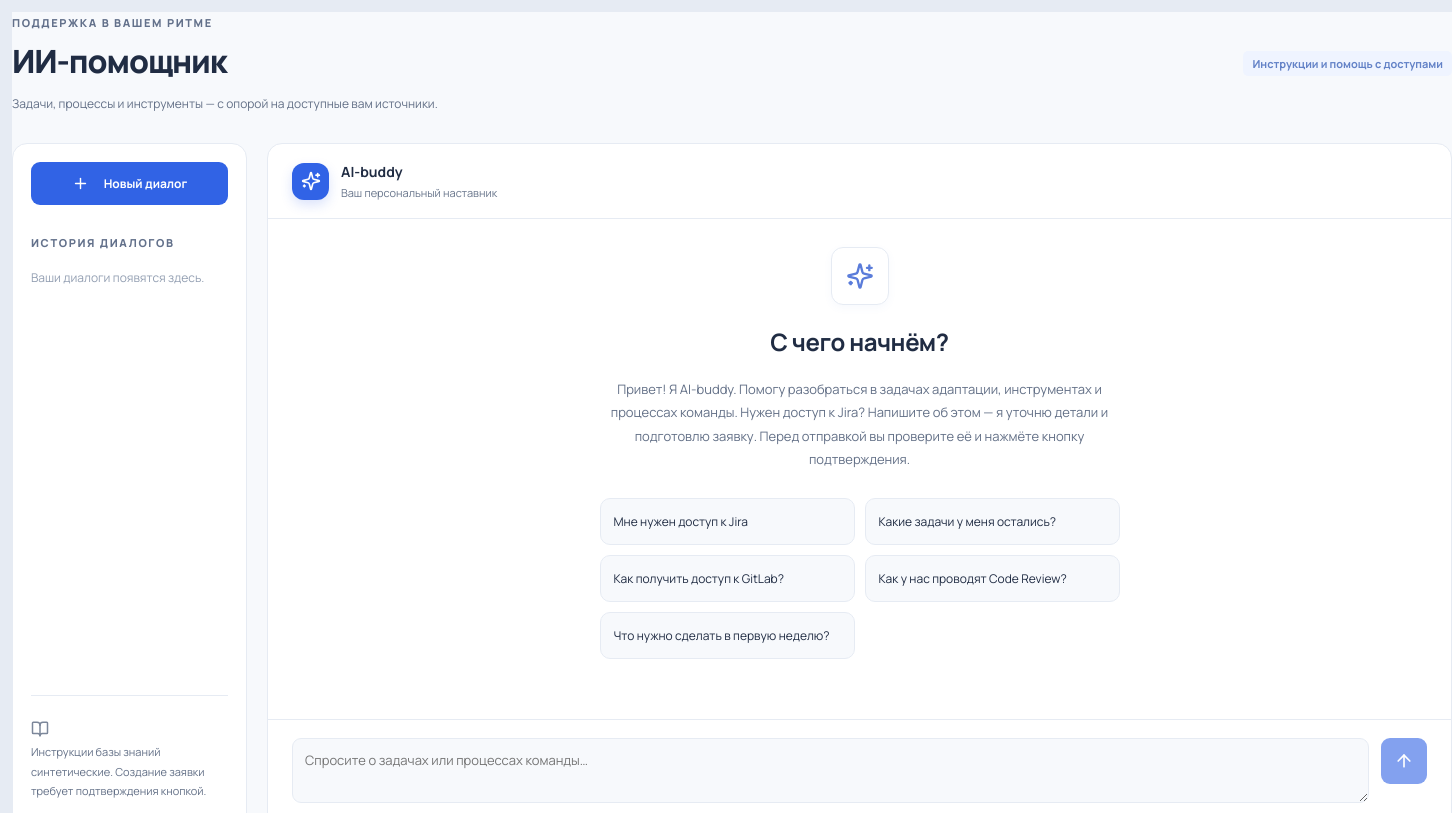
Test case: send button and empty history
The width and height of the screenshot is (1452, 813).
(page scrolled)
Expected: the text "Ваши диалоги появятся здесь." is shown, top-left (31, 267), bottom-right (228, 289)
Expected: the button named "Отправить сообщение" is disabled, top-left (1381, 738), bottom-right (1427, 784)
In the text box named "Сообщение AI-buddy": (830, 771) top-left (292, 738), bottom-right (1369, 803), type "Привет"
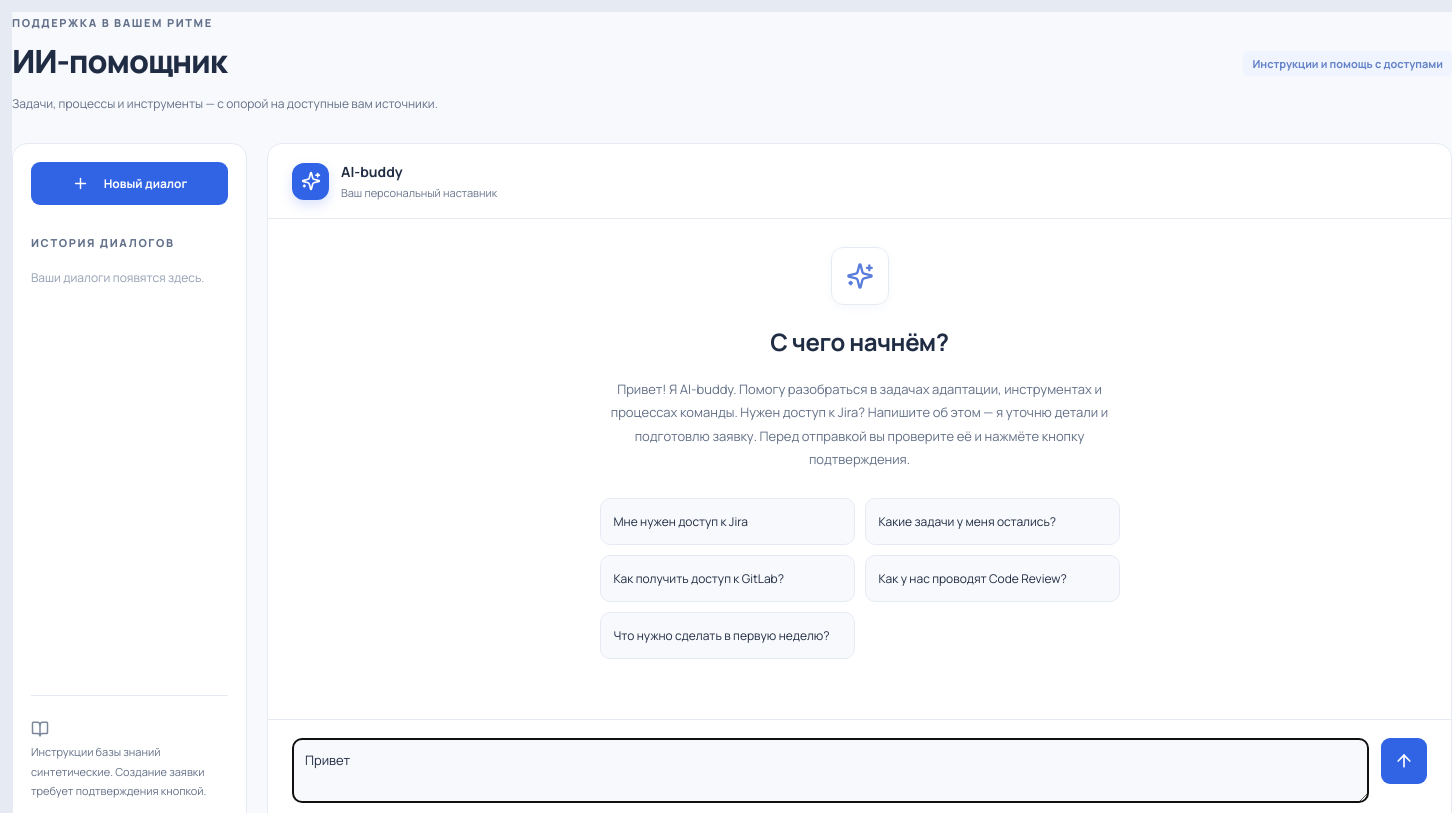
Click the button named "Отправить сообщение": (1404, 761) top-left (1381, 738), bottom-right (1427, 784)
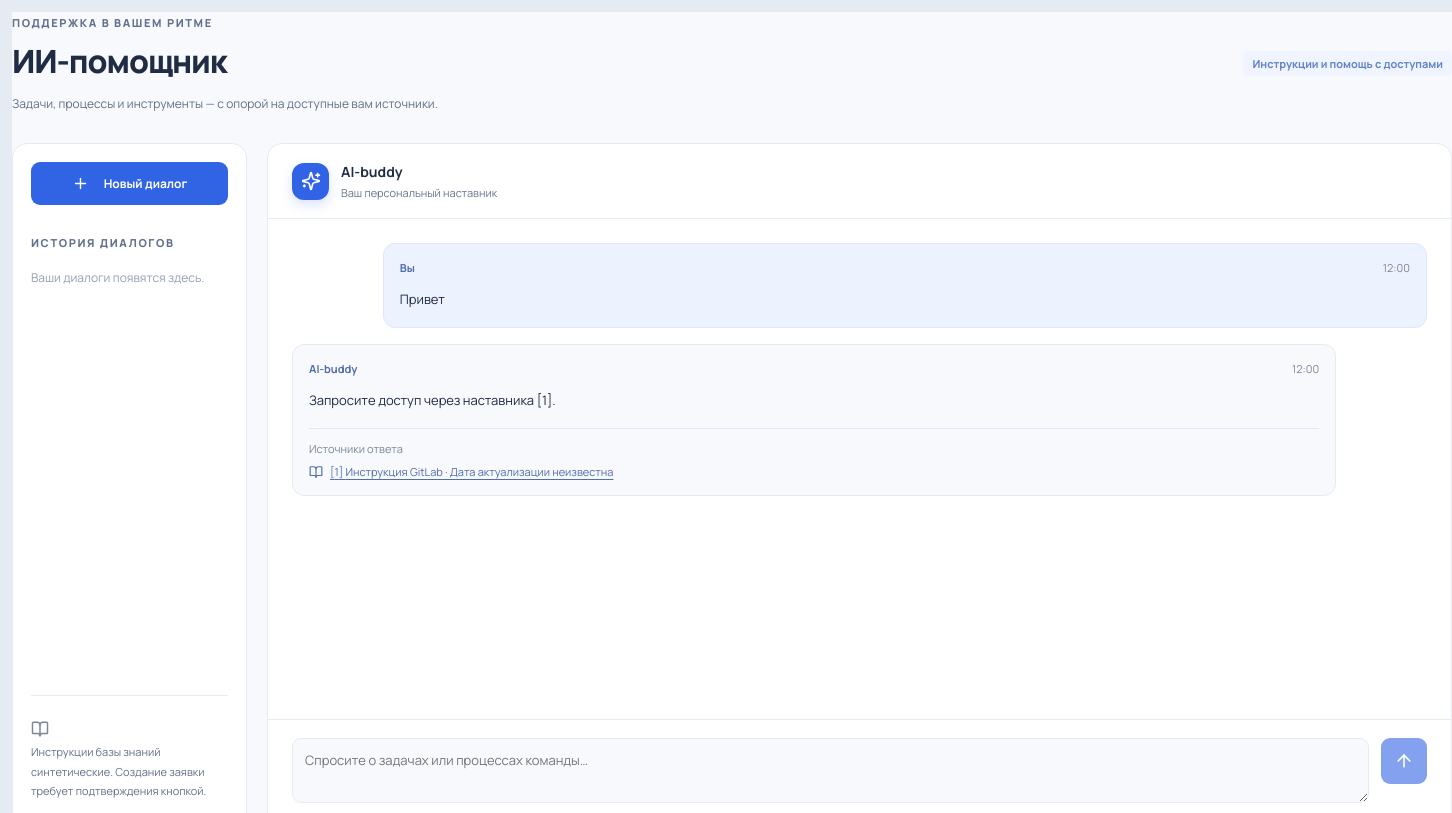
Expected: the text "Запросите доступ через наставника [1]." is shown, top-left (309, 391), bottom-right (556, 409)
